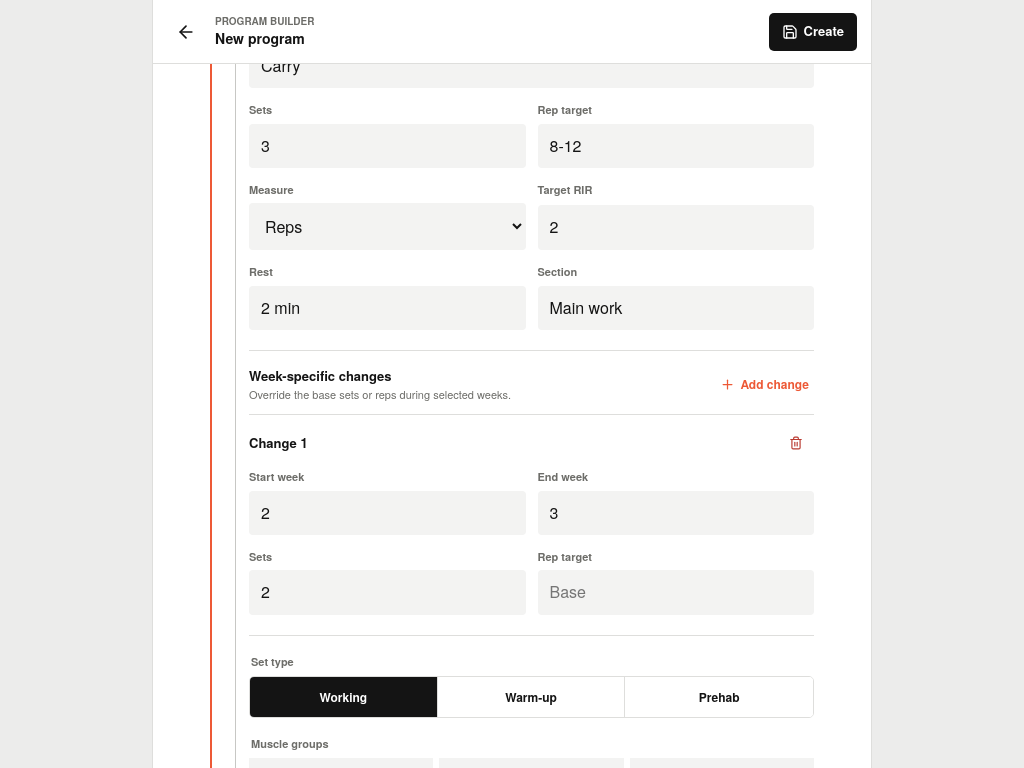
Scenario: program editor controls › adds week changes into a gap and disables them once all weeks are covered
The width and height of the screenshot is (1024, 768).
(page scrolled)
Click the button "Add change".
click(765, 385)  # box [715,371,814,398]
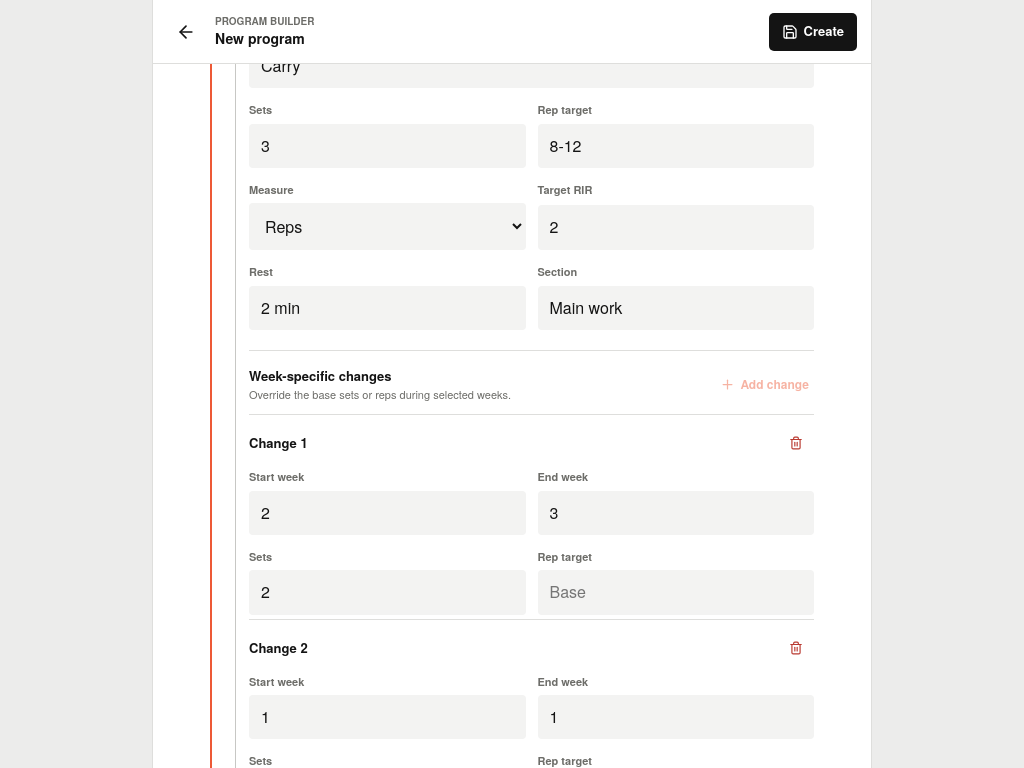
Result: the 2nd number field labelled "Start week" holds "1" at [249,695,526,740]
Result: the button "Add change" is disabled at [715,371,814,398]
Click the button named "Delete week-specific change 2".
click(796, 648)  # box [778,630,814,666]
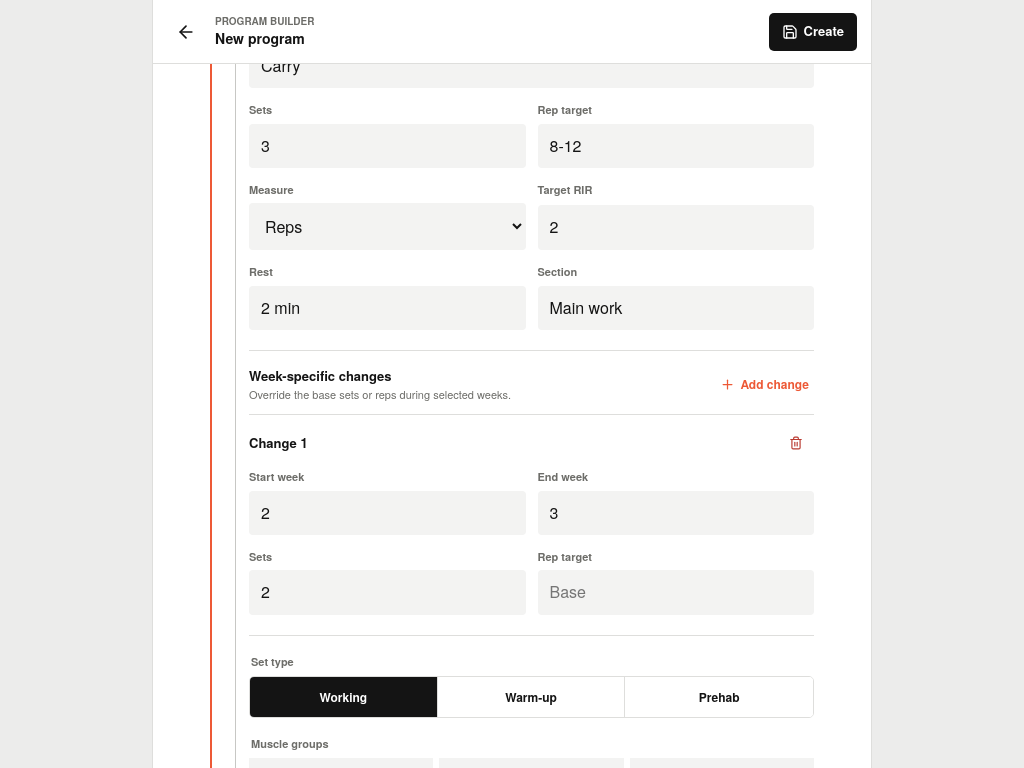
Result: the button "Add change" is enabled at [715,371,814,398]
